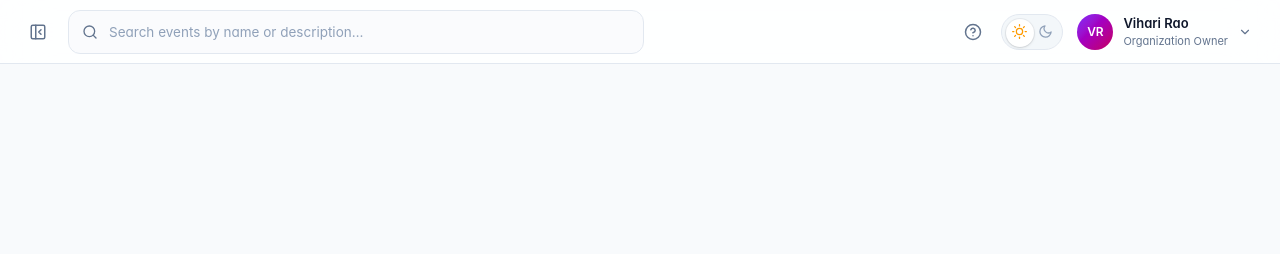
Test case: the account menu › shows the avatar initials and the name in its header
Click the button with aria-label "Account menu" at (1167, 32), box [1073, 10, 1260, 54]
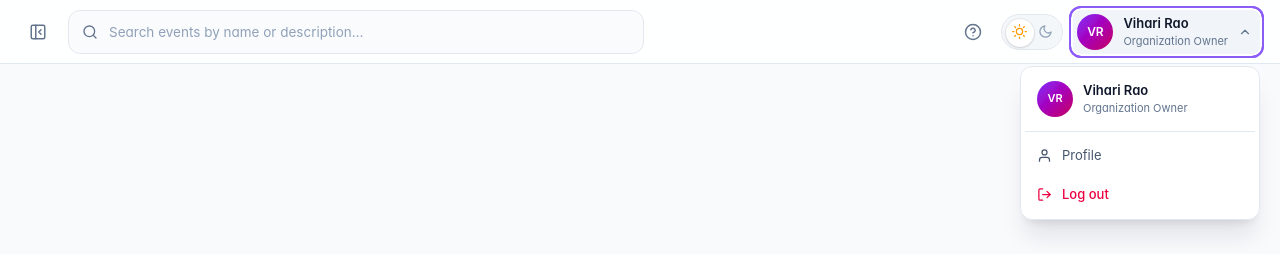
Expected: the menu shows "Vihari Rao", [1083, 82, 1148, 98]
Expected: the menu shows "Organization Owner", [1083, 101, 1188, 115]
Expected: the menu shows "VR", [1047, 91, 1063, 105]
